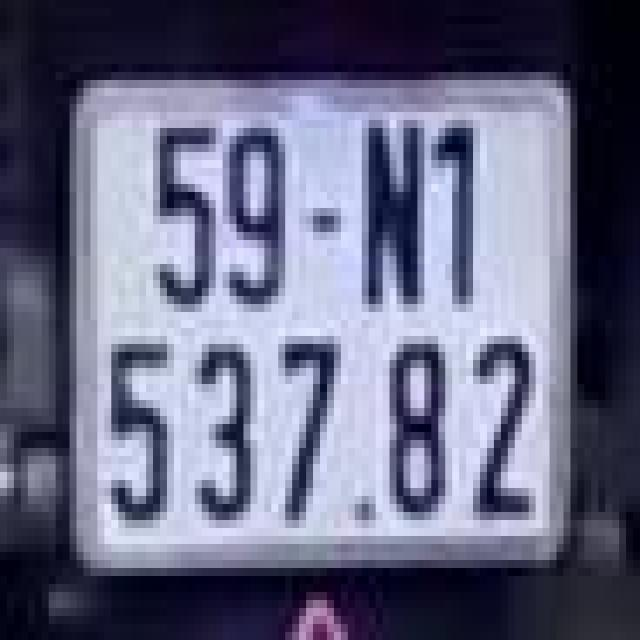1: (428, 108, 490, 308)
2: (463, 328, 539, 552)
3: (188, 336, 264, 536)
5: (101, 332, 177, 540), (146, 120, 223, 320)
7: (268, 328, 344, 536)
8: (383, 328, 452, 544)
9: (219, 120, 296, 312)
N: (355, 96, 431, 312)
